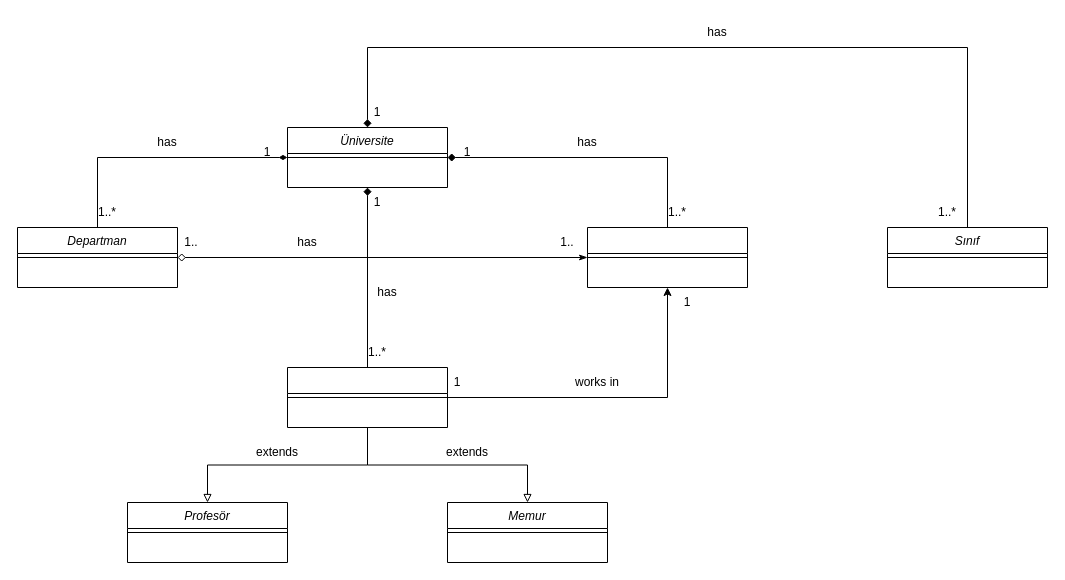
Some shapes in this 1065 by 580 pixel diagram are drawn without their labels. Each missing label, with the centre of its shape:
Ofis: [667,257]
Çalışan: [367,397]
